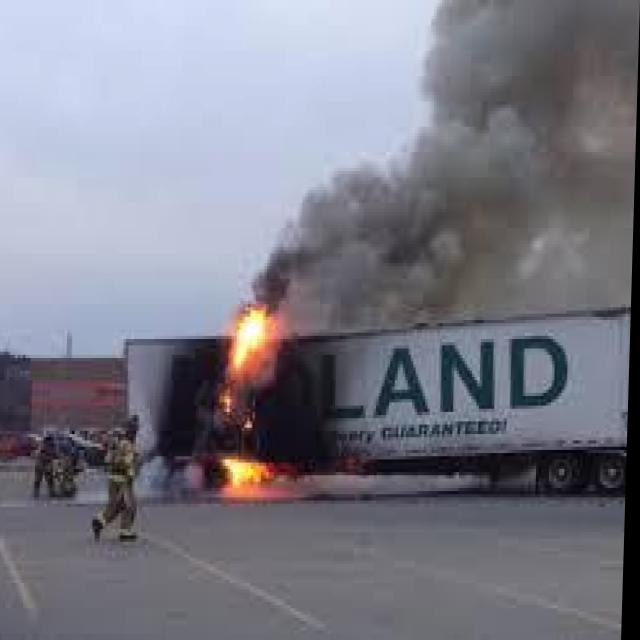fire: (194, 298, 322, 504)
